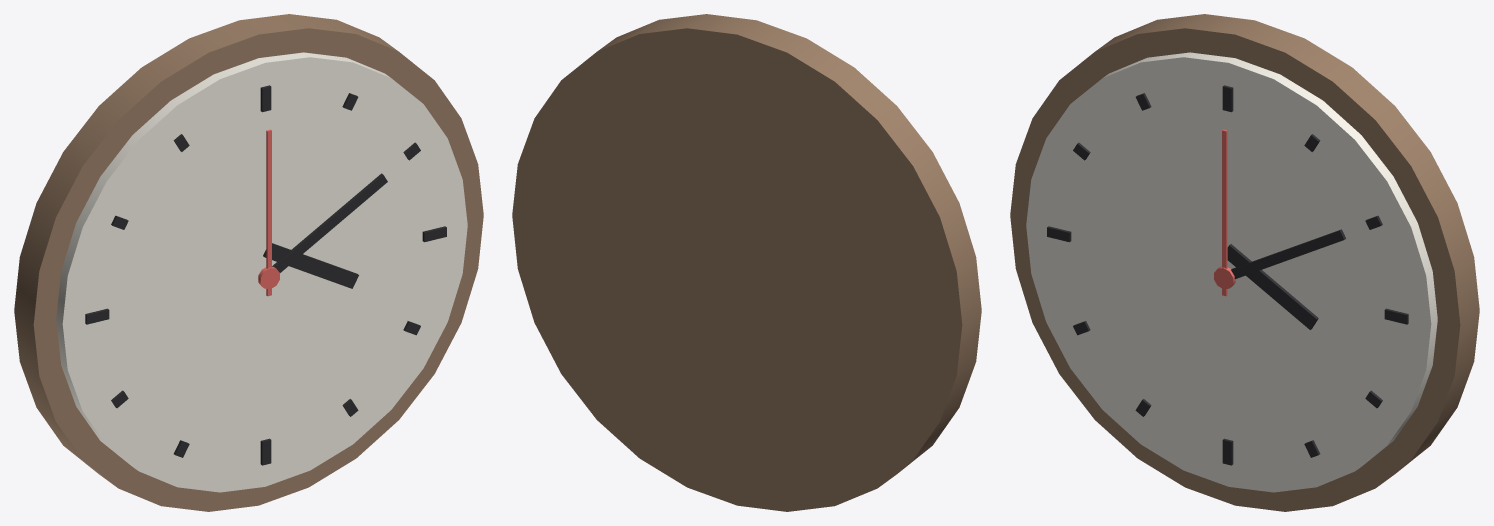
The model's file is wall-clock.glb.
3 views of the same model, side by side, from view 1: azimuth 30°, elevation 25°; view 2: azimuth 150°, elevation 25°; view 3: azimuth 330°, elevation 25° (orthographic).
Parts seen in each view (by area): view 1: body, sec; view 2: body; view 3: body, sec.
Boxes of the visible parts, <box> form: body: <box>14,14,483,511</box>; sec: <box>258,129,279,296</box>; body: <box>512,14,981,511</box>; body: <box>1010,14,1479,511</box>; sec: <box>1214,129,1235,296</box>.
Bounding box in the file's own units: 0.4 × 0.4 × 0.048.
